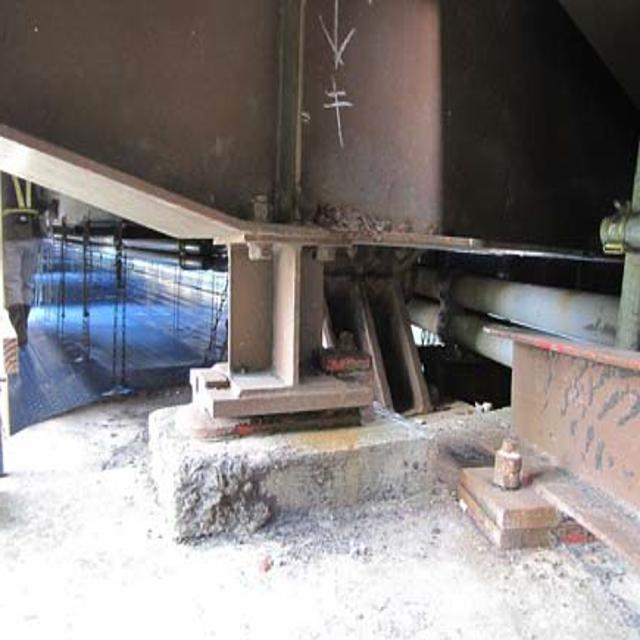corrosion: (318, 314, 402, 397)
